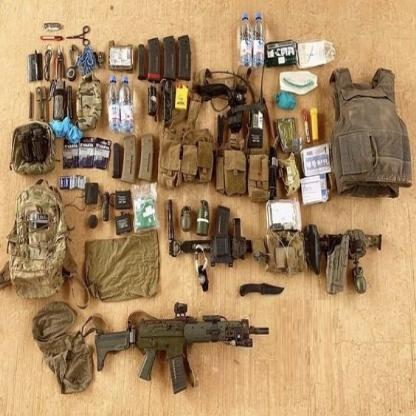Grenade: (350, 262, 368, 296), (196, 196, 210, 236), (179, 204, 194, 232)
Gun: (93, 301, 269, 398)
Knife: (238, 280, 286, 300)
